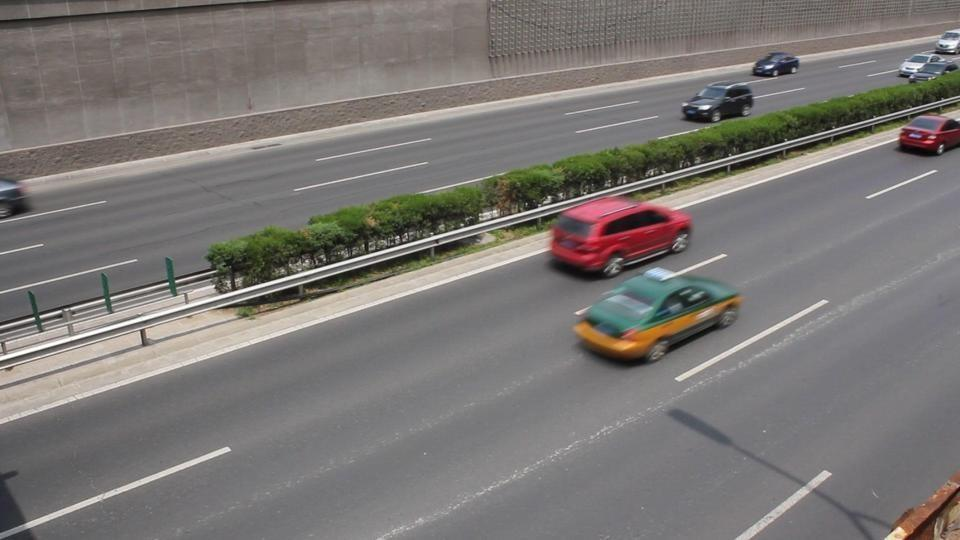car: (572, 265, 743, 364), (548, 195, 694, 278), (680, 81, 754, 123), (896, 113, 960, 155), (897, 52, 956, 84), (0, 176, 33, 219), (752, 51, 800, 78), (935, 29, 960, 54)
